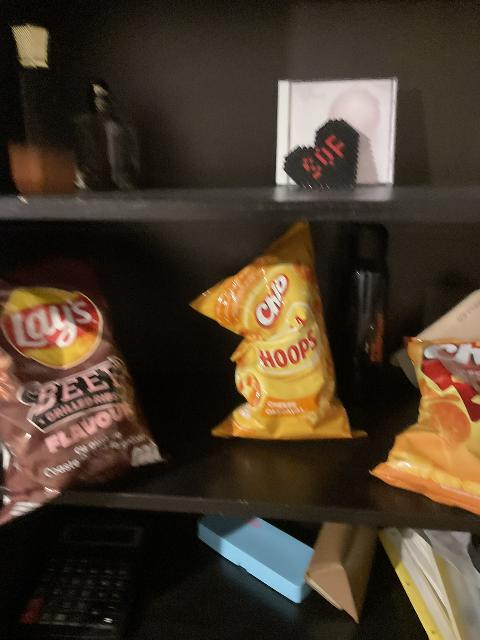Chio Cascaval 125g: (366, 332, 476, 522)
Chio Hula Hoops Cheese 70g: (191, 224, 362, 437)
Lays Beef Grilled Ribs 125g: (0, 269, 172, 527)
